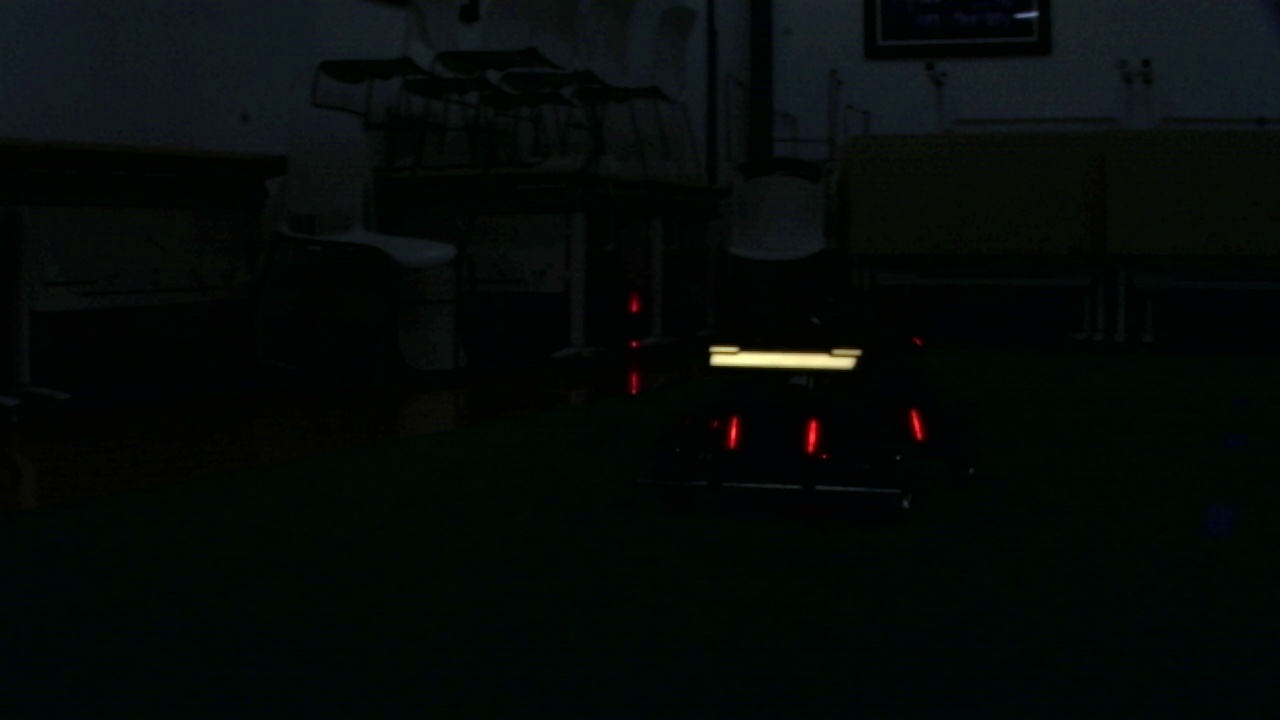lamp: (906, 402, 925, 443), (723, 414, 740, 452), (805, 413, 818, 453)
pair1: (730, 420, 819, 452)
